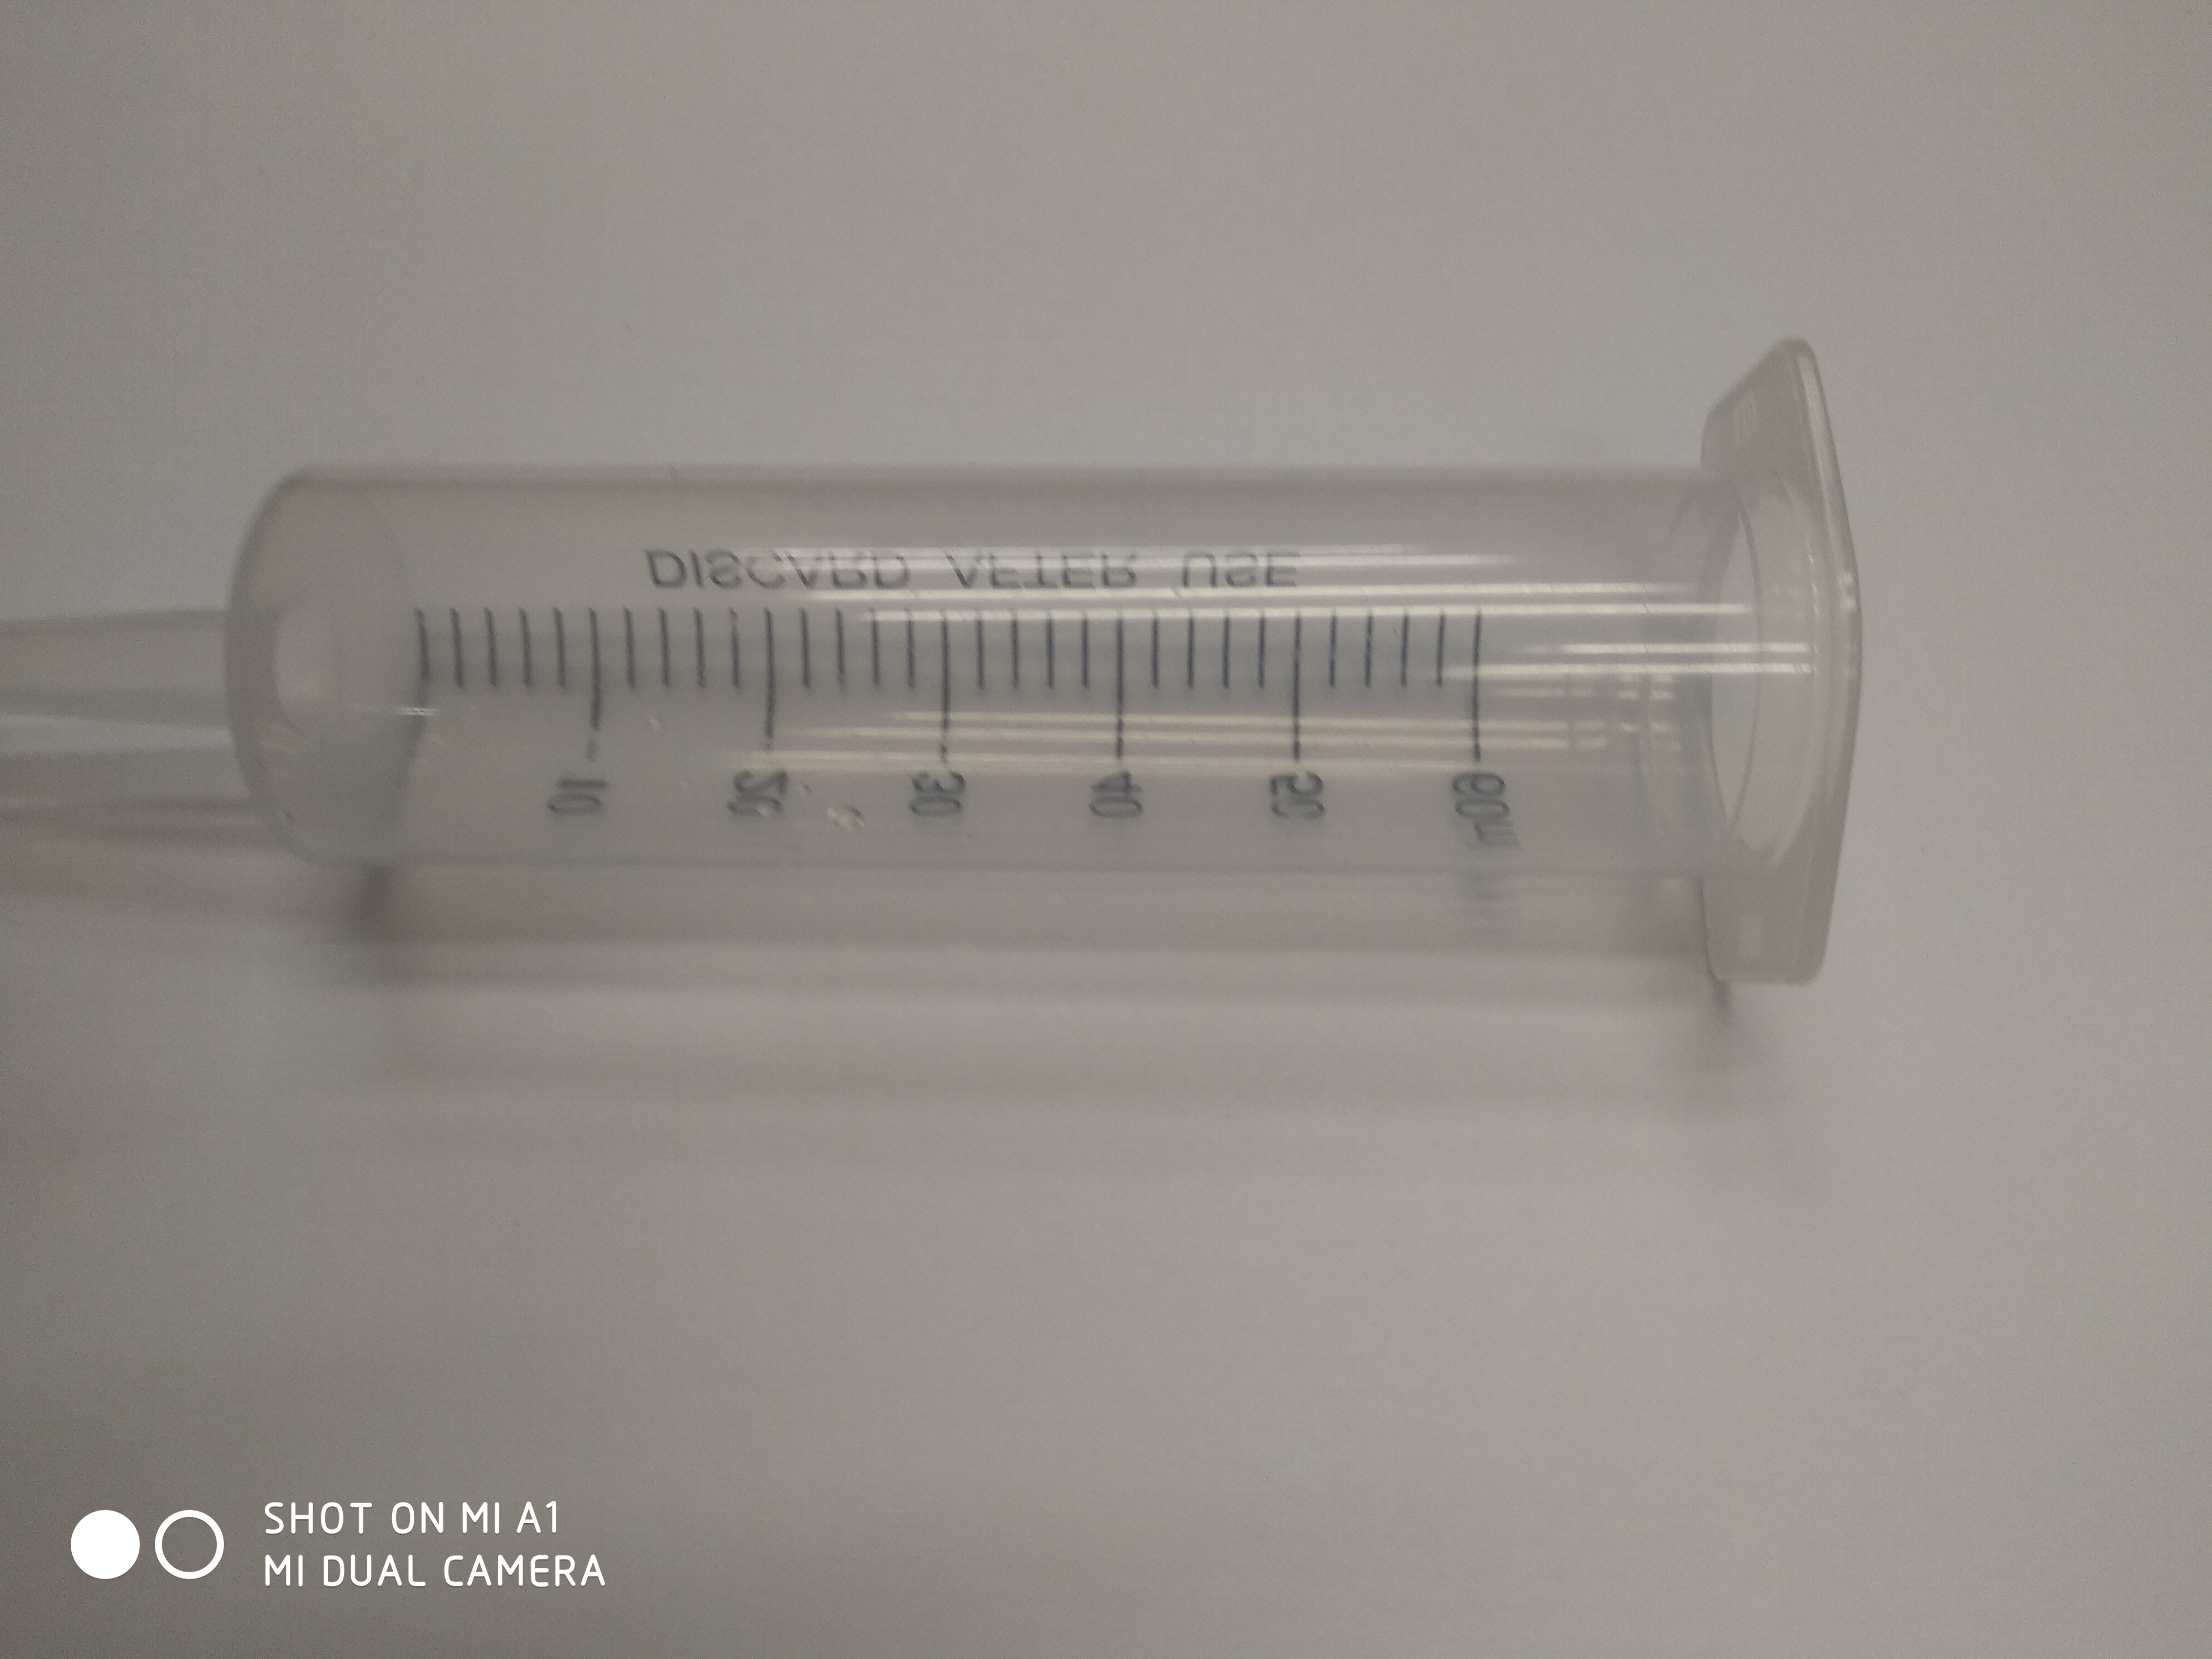syringe: (2, 328, 1872, 997)
